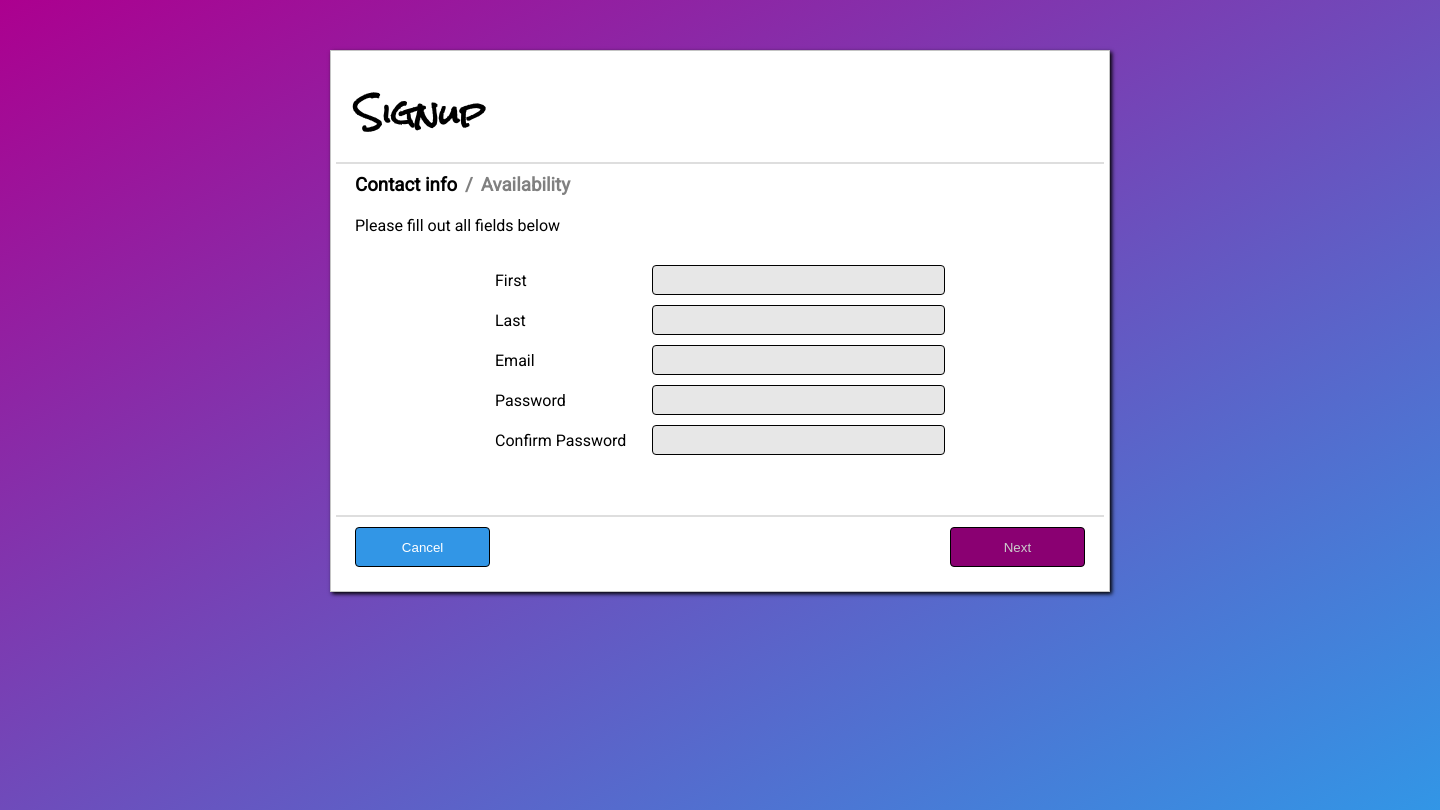
Test: Testing cancel and submit behaviors of form wizard › Clicking Cancel button will display appropriate message
Click the button "Cancel" at x=423, y=547, box [355,527,490,567]
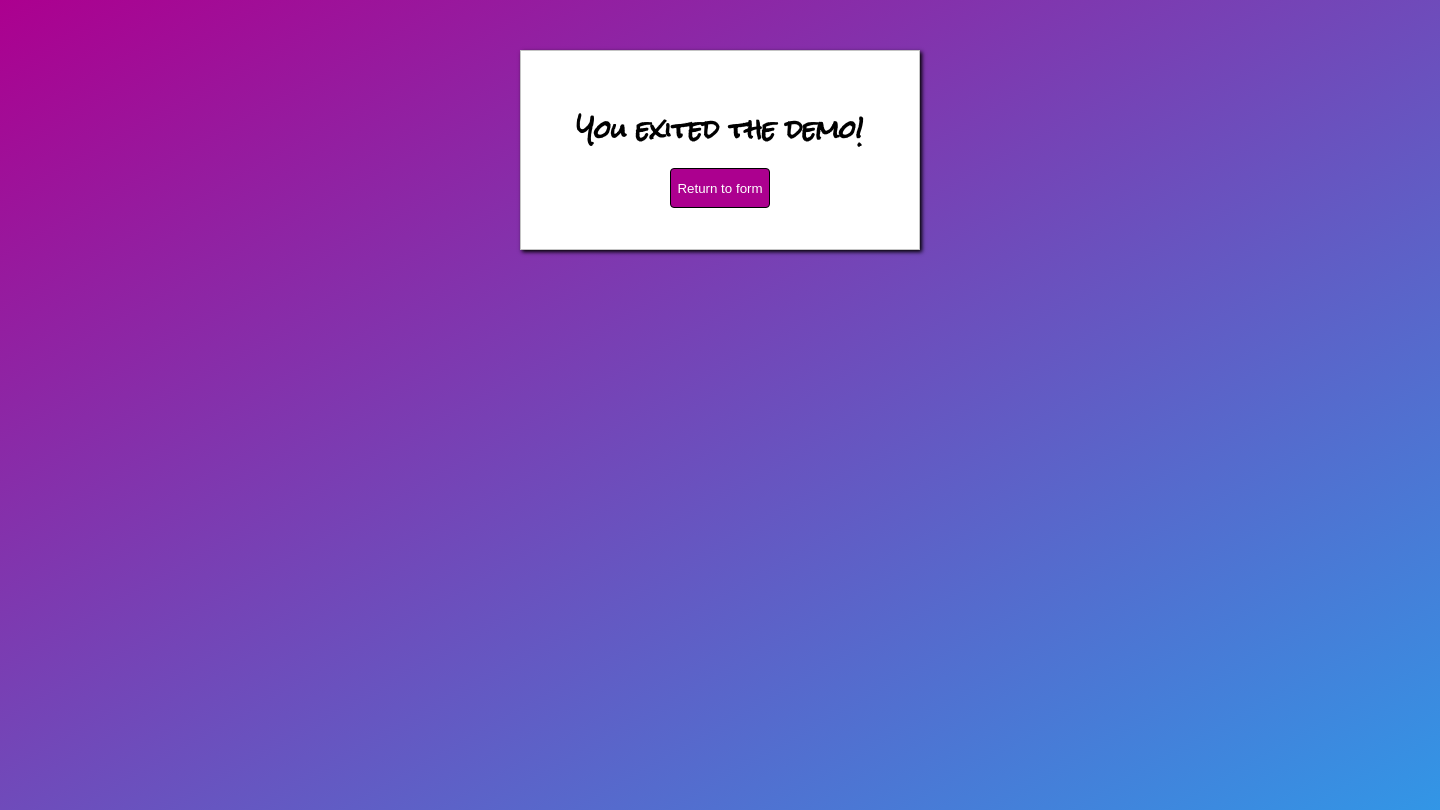
Expected: the heading "You exited the demo!" is shown, [577,101,863,157]
Expected: the button "Return to form" is shown, [670,168,770,208]
